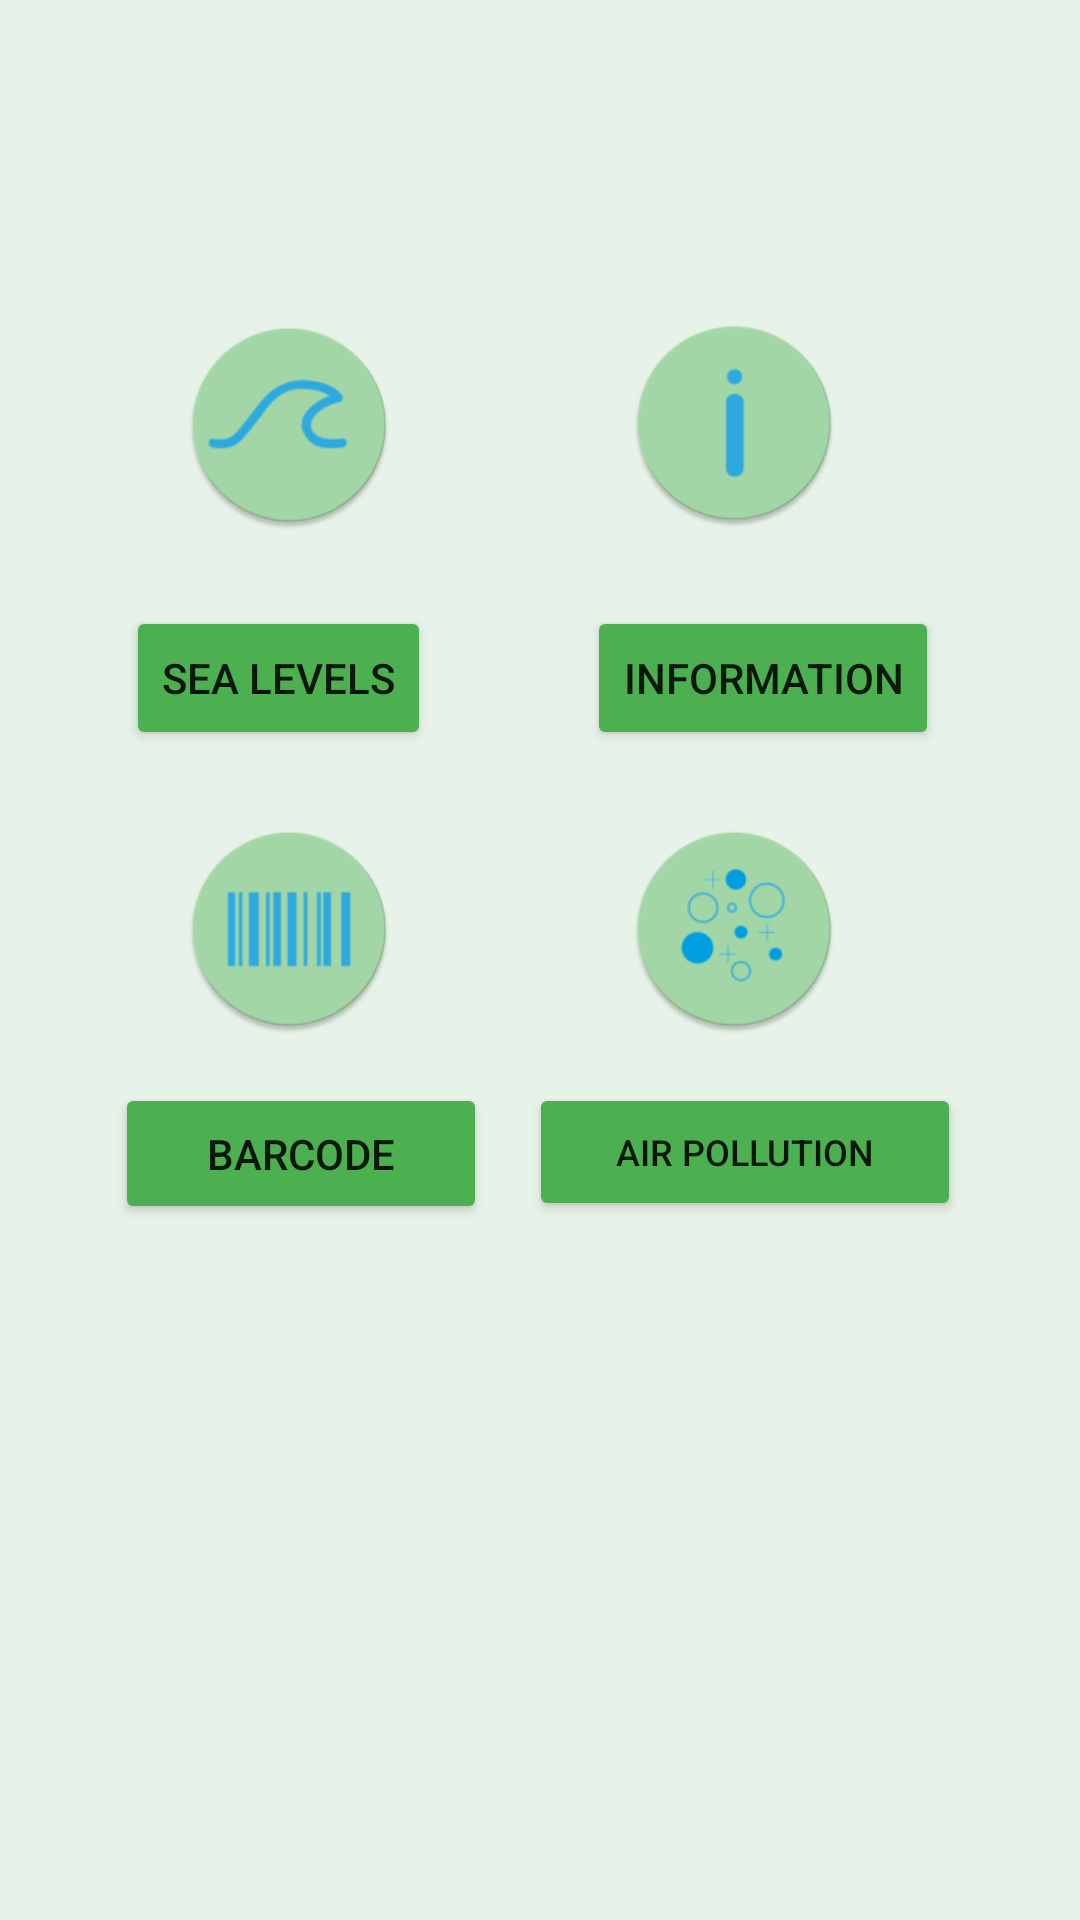

Icons on this 1080 × 1920 Android screen, each with the point to tap as point (x, y):
sealevel round: point (289, 427)
